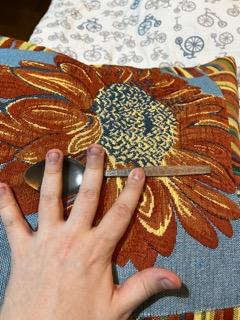spoon: (22, 152, 216, 200)
